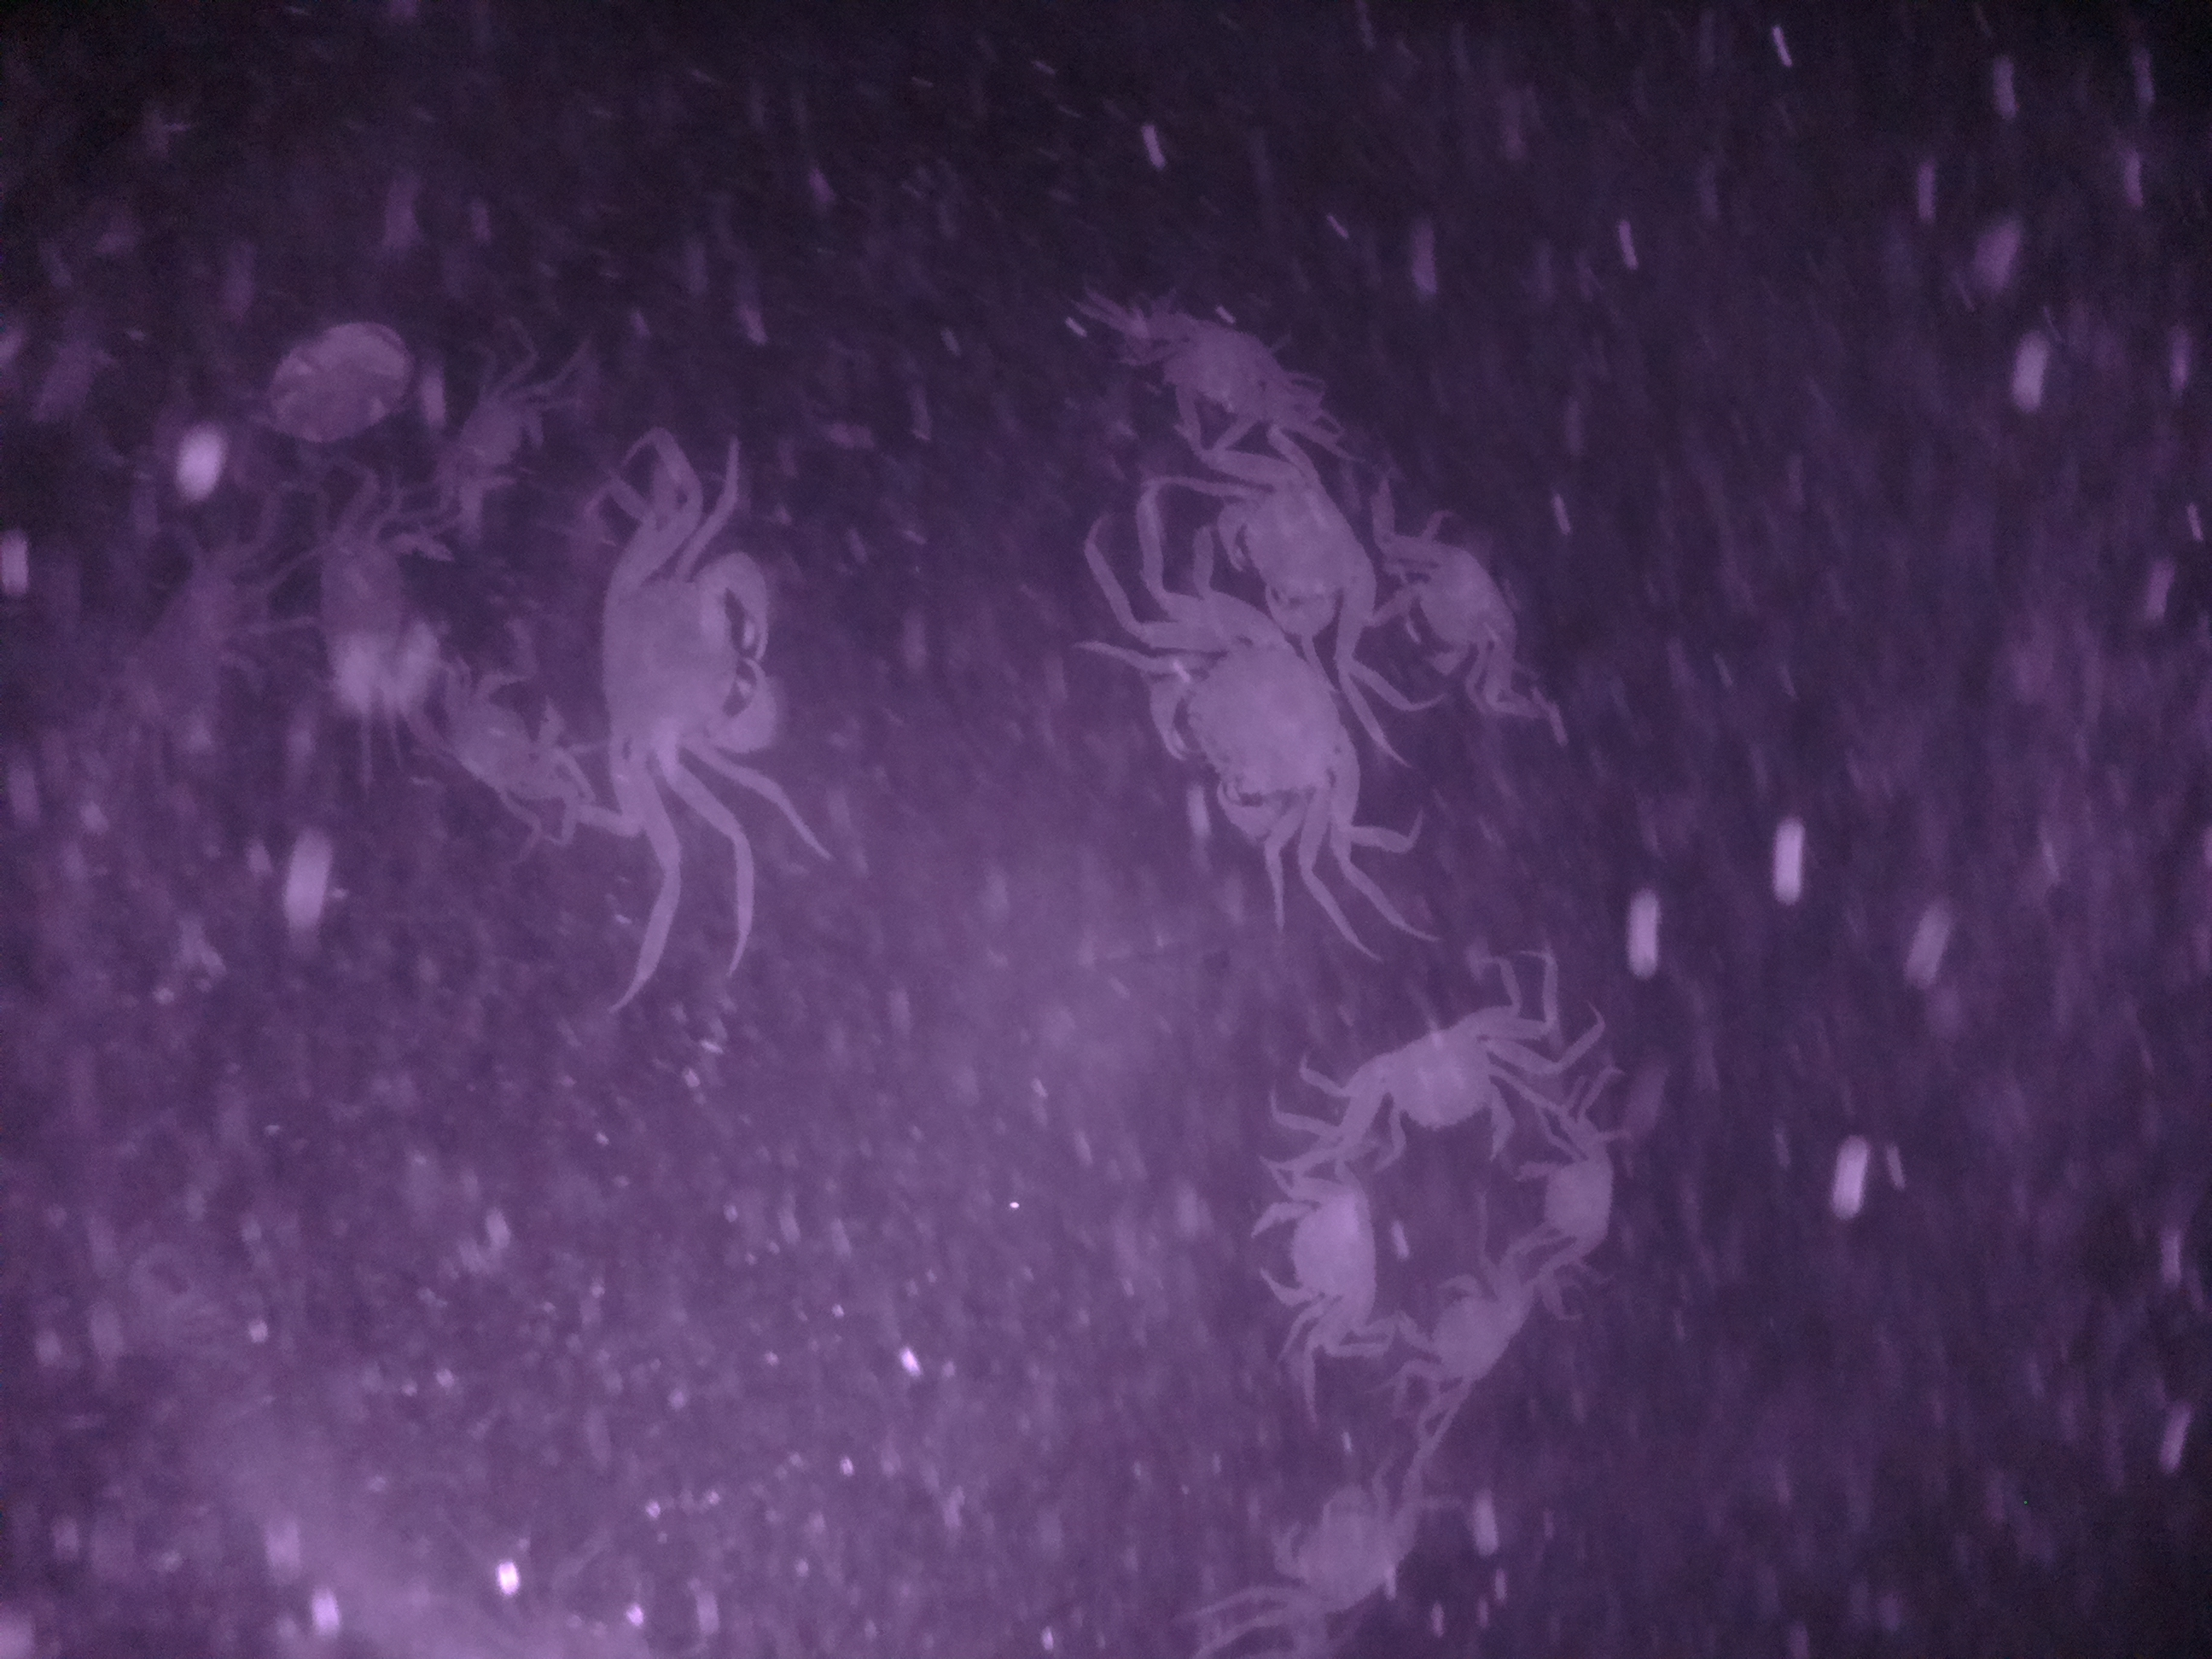Crab: (585, 528, 822, 798), (1115, 606, 1360, 850), (1263, 1452, 1439, 1642), (1390, 507, 1548, 695), (1341, 999, 1522, 1162), (1249, 1150, 1395, 1351), (1399, 1248, 1547, 1419), (423, 648, 570, 809), (1517, 1117, 1618, 1270), (428, 376, 556, 493)
